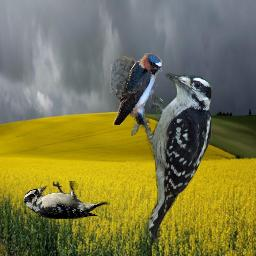Swallow: (110, 53, 162, 125)
Woodpecker: (131, 71, 222, 243), (24, 181, 110, 219)
